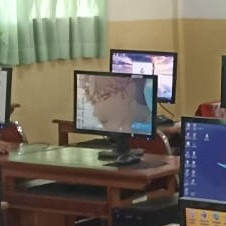monitor: (73, 70, 158, 141), (178, 116, 226, 222), (110, 49, 178, 104)
